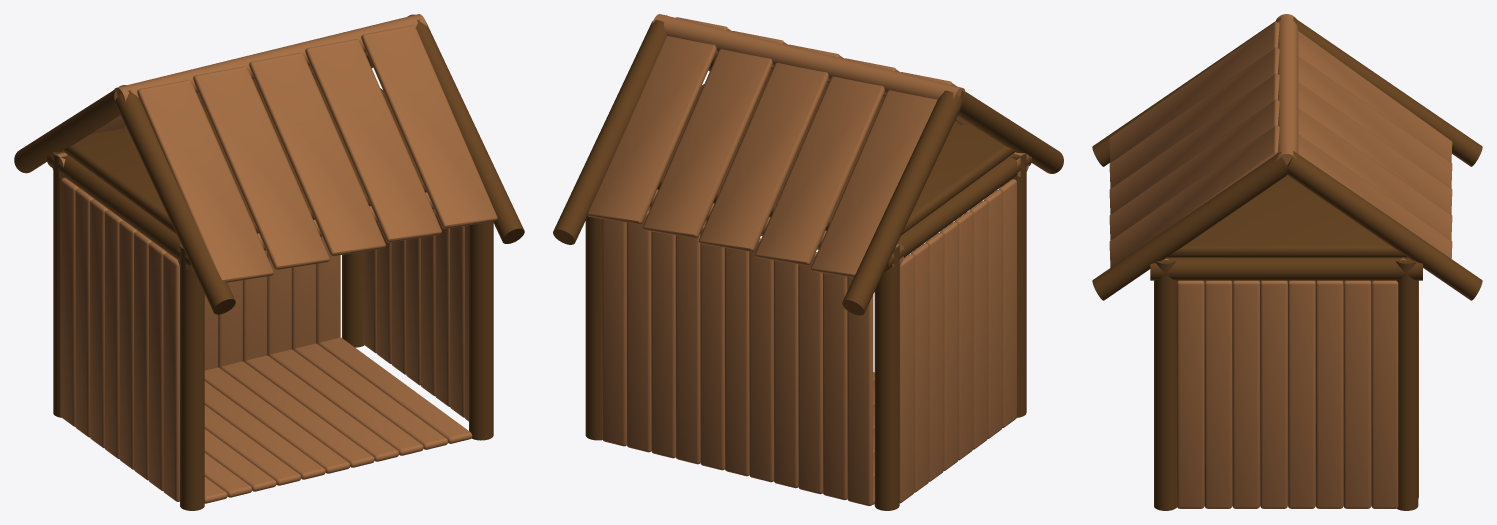
File: exchange shop 2.fbx
3 views of the same model, side by side, from view 1: azimuth 30°, elevation 25°; view 2: azimuth 150°, elevation 25°; view 3: azimuth 270°, elevation 25° (orthographic). The views are drawn at different scales.
Parts seen in each view (by area): view 1: Cylinder.302; view 2: Cylinder.302; view 3: Cylinder.302.
Boxes of the visible parts, box(x1,y1,x2,y2) form: Cylinder.302: box(14, 14, 524, 510); Cylinder.302: box(553, 14, 1063, 510); Cylinder.302: box(1092, 14, 1482, 510).
Bounding box in the file's own units: 12305 × 14009 × 13969.
